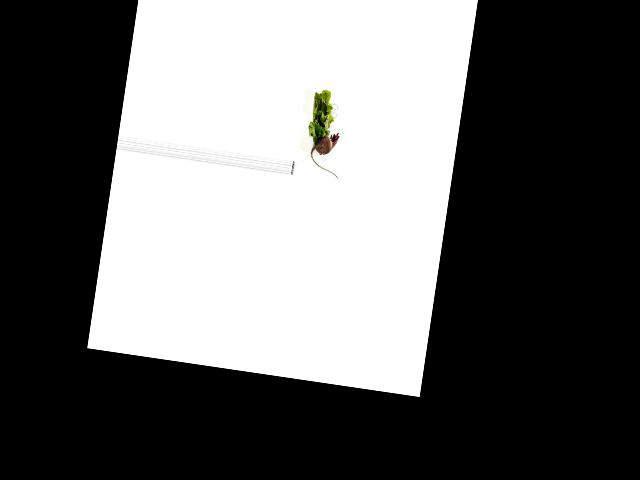beet: (307, 129, 345, 180)
